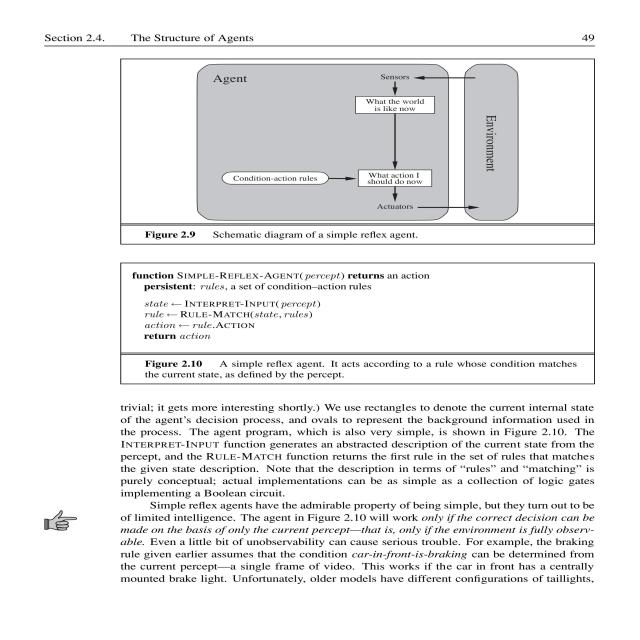diagram: (93, 50, 640, 391)
